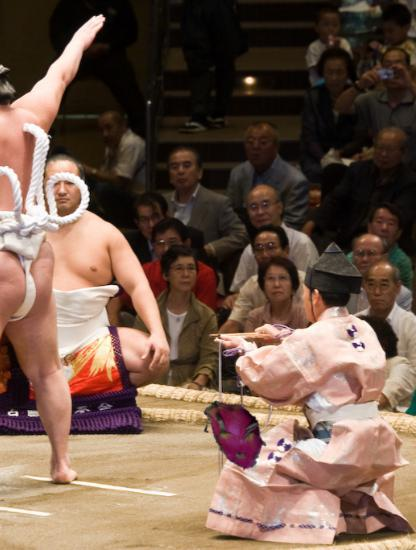Pitahaya: (196, 395, 274, 473)
